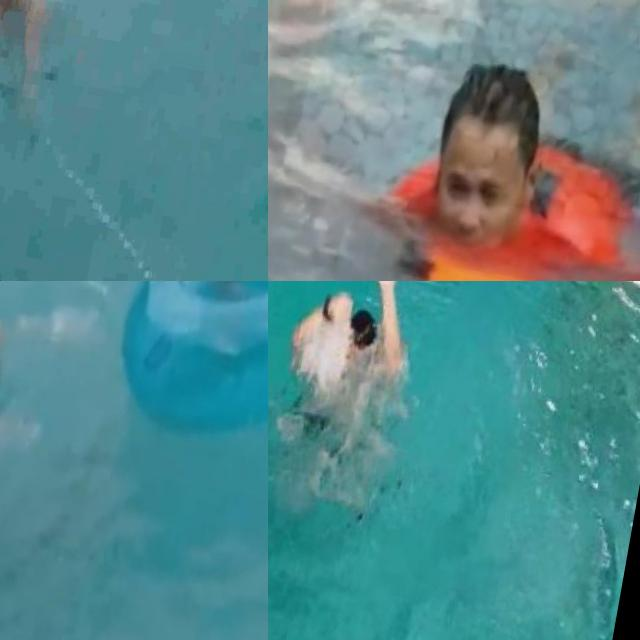drowning: (277, 281, 426, 434), (0, 0, 127, 140), (0, 281, 55, 524)
swimming: (346, 10, 640, 281)
